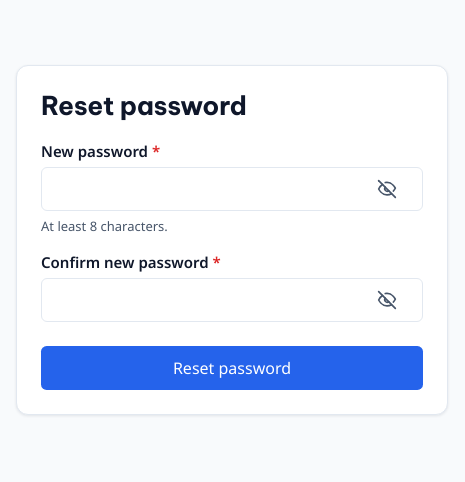
it: authentication pages › returns to login with a reset success notice
This screenshot has width=465, height=482.
Type "new-password" into the password field labelled "New password". click: [232, 189]
box: [41, 167, 423, 211]
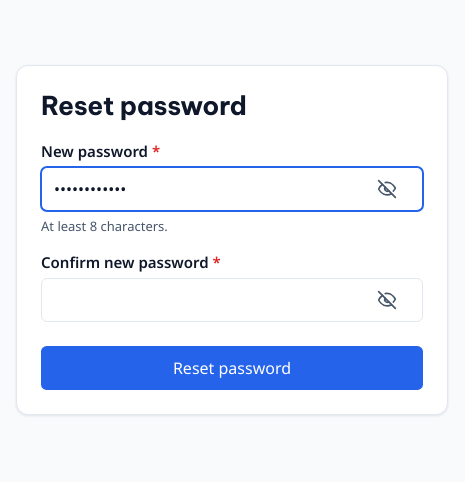
Type "new-password" into the password field labelled "Confirm new password". click: [232, 300]
box: [41, 278, 423, 322]
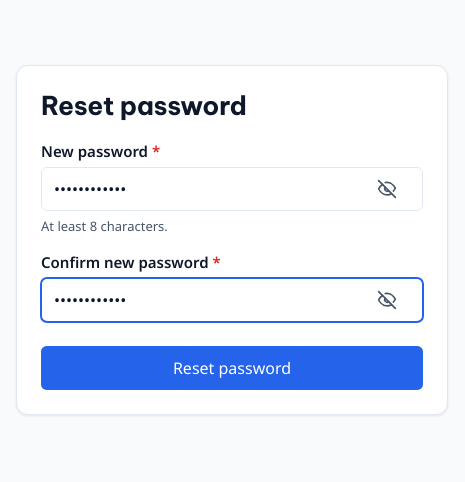
Click the button "Reset password". click: [232, 368]
box: [41, 346, 423, 390]
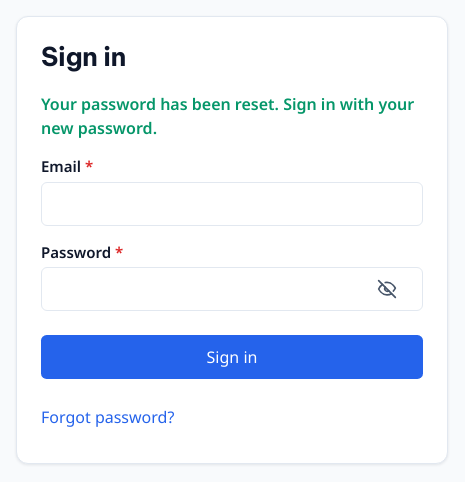
expect the message reads "Your password has been reset. Sign in with your new password.": met, box [41, 93, 414, 139]
